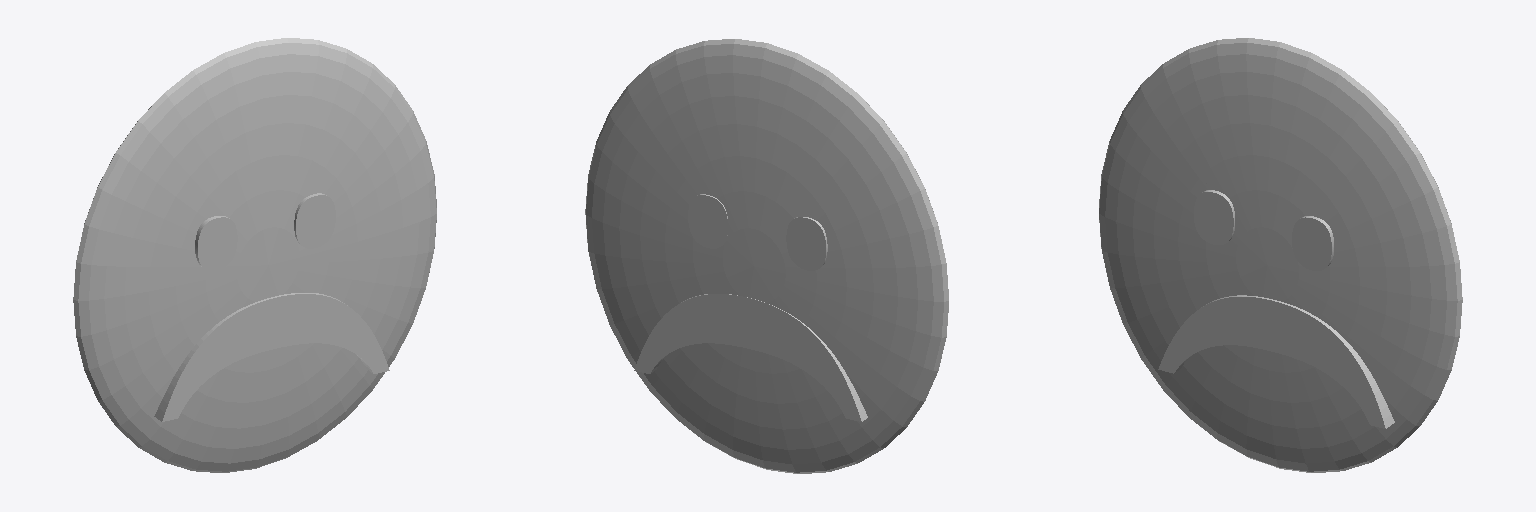
File: sad.obj
The picture shows the model from 3 angles: view 1: azimuth 30°, elevation 25°; view 2: azimuth 150°, elevation 25°; view 3: azimuth 330°, elevation 25°; orthographic projection.
Visible parts, largest first — view 1: obj_0; view 2: obj_0; view 3: obj_0.
Part boxes in pixels (bbox=[...]): obj_0: bbox=[73, 38, 436, 472]; obj_0: bbox=[585, 39, 948, 473]; obj_0: bbox=[1099, 38, 1462, 472].
Bounding box in the file's own units: 158 × 177 × 21.